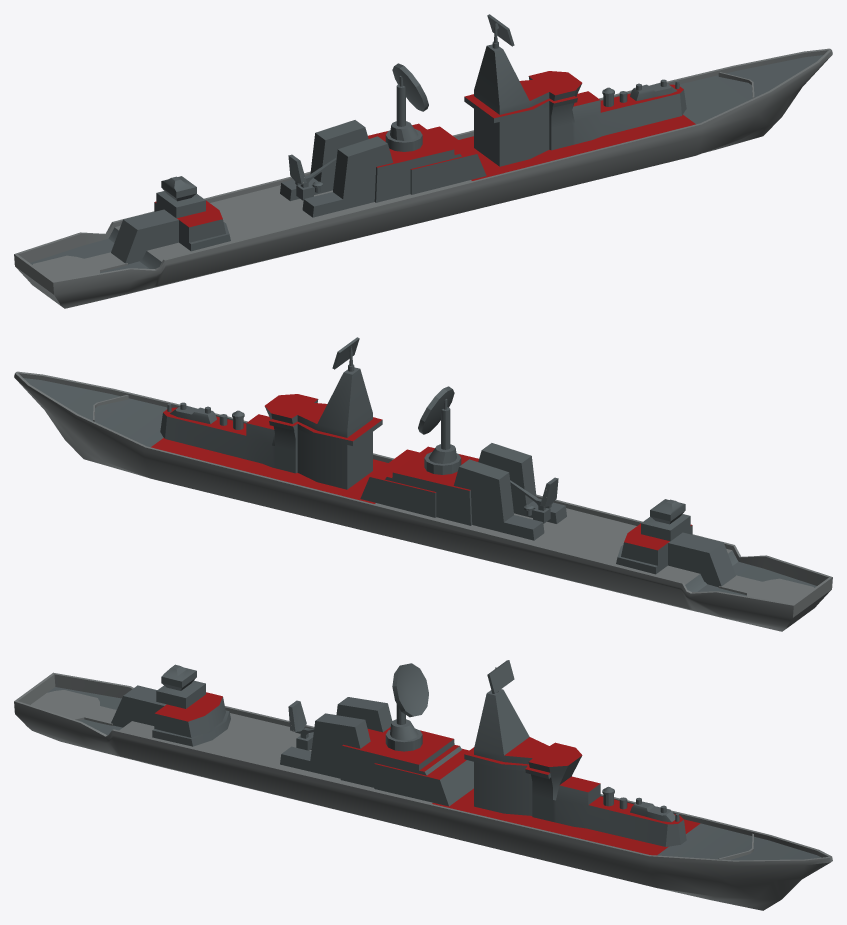
Rendered from Battleship - Unarmed.fbx.
The picture shows the model from 3 angles, top to bottom: view 1: azimuth 30°, elevation 25°; view 2: azimuth 150°, elevation 25°; view 3: azimuth 330°, elevation 25°; orthographic projection.
Parts seen in each view (by area): view 1: Cube; view 2: Cube; view 3: Cube.
Boxes of the visible parts, <box> form: Cube: <box>14,14,832,308</box>; Cube: <box>14,337,832,631</box>; Cube: <box>14,660,832,910</box>.
Bounding box in the file's own units: 4558 × 977 × 522.
1 material, 1 textured.
